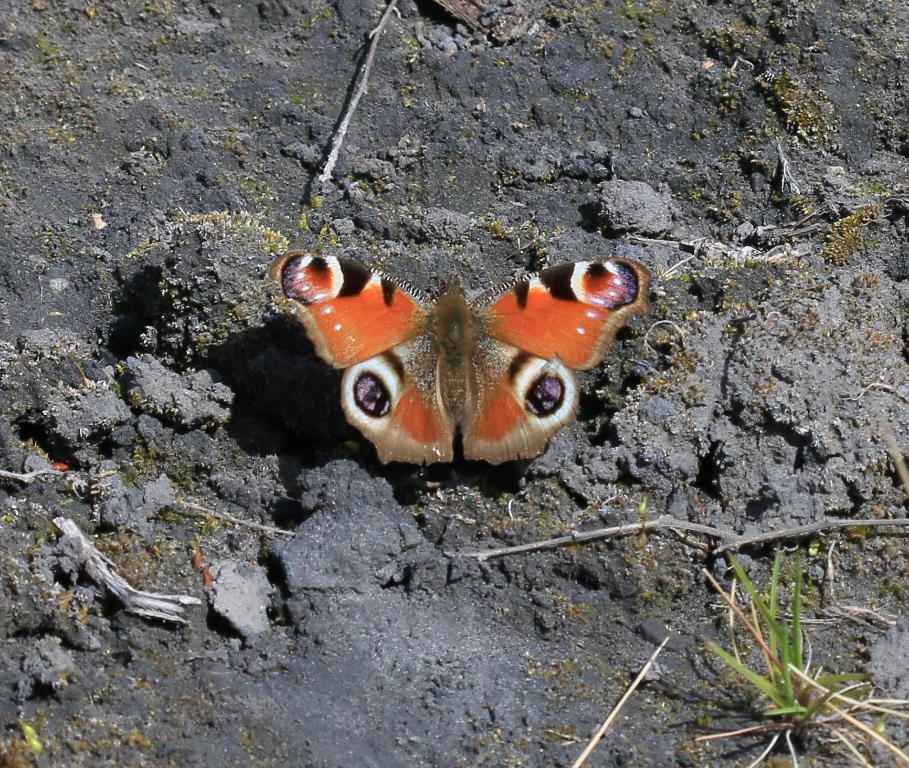Butterfly: (264, 228, 654, 489)
